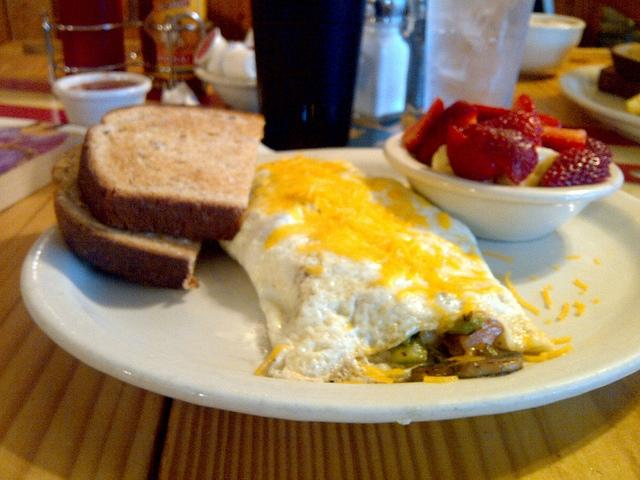strawberry: (414, 100, 478, 167), (469, 124, 539, 185), (446, 123, 503, 182), (539, 148, 612, 188), (402, 96, 446, 153), (477, 110, 542, 146), (542, 125, 588, 153), (585, 134, 613, 164), (469, 104, 512, 122), (512, 94, 538, 116), (538, 113, 562, 128)
